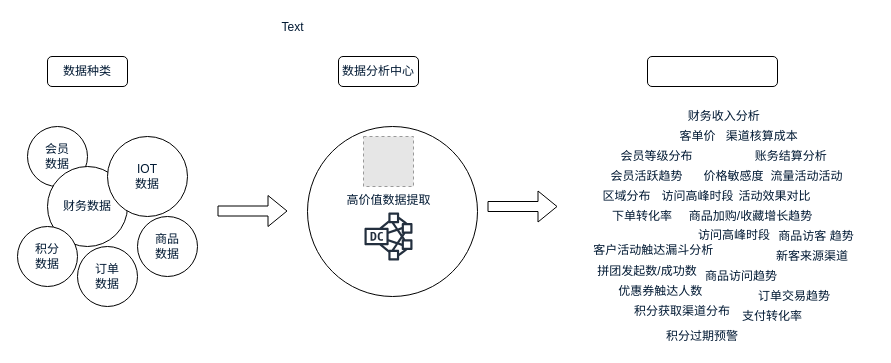
The diagram is 891 pixels wide and 363 high, and some of its shapes have lost their labels. Grey dashed boxes stand in for pictures. The shapes that lost their labels are listed below. From the top down, each one's centre as x and y in pixels, then its label:
At point 712,71: "可视化图表设计封装".
At point 388,236: "多维度计算".
